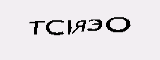І: (65, 14, 74, 40)
О: (105, 15, 130, 33)
С: (44, 15, 67, 38)
Т: (27, 19, 46, 39)
Э: (87, 15, 104, 36)
Я: (73, 16, 86, 40)
